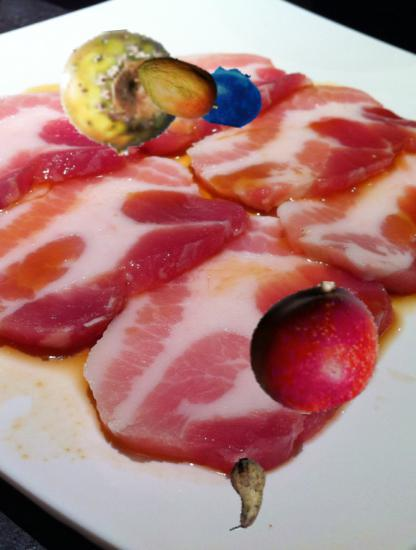Cactus: (56, 30, 186, 160)
Huckleberry: (193, 62, 264, 133)
Nectarine: (247, 281, 381, 415)
Papaya: (134, 43, 222, 131)
Pear: (211, 458, 282, 529)
